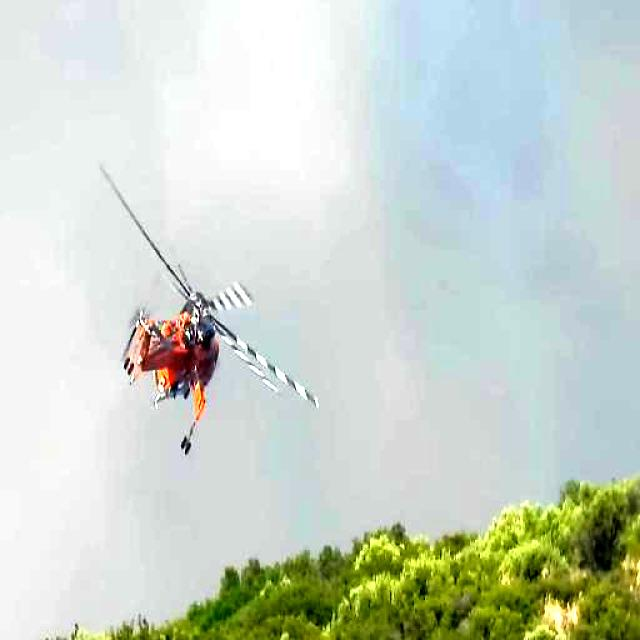drone: (92, 152, 321, 458)
